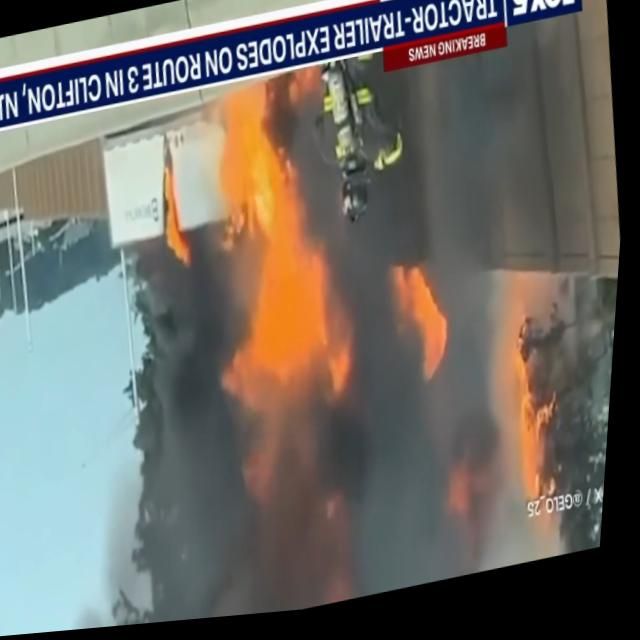Fire: (185, 61, 367, 424), (497, 331, 572, 524), (388, 263, 461, 387)
